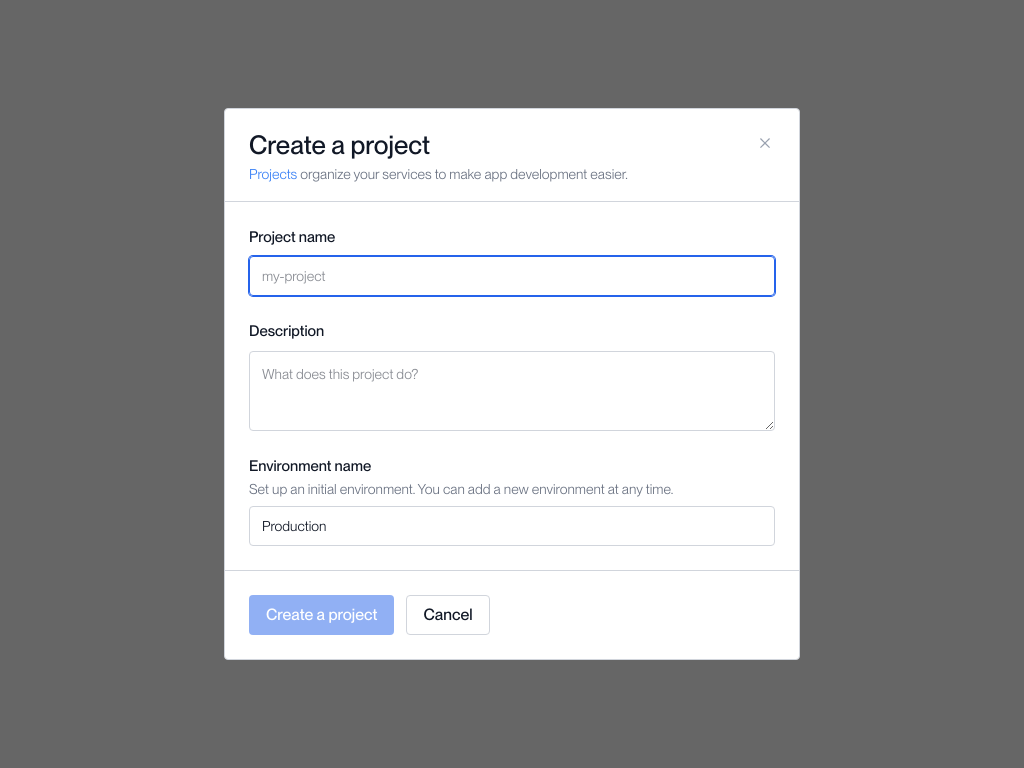
Test case: CreateProjectModal › displays error message if project creation fails
Type "Existing App" into the field with test id "new-project-name" at (512, 276), box [249,256,775,296]
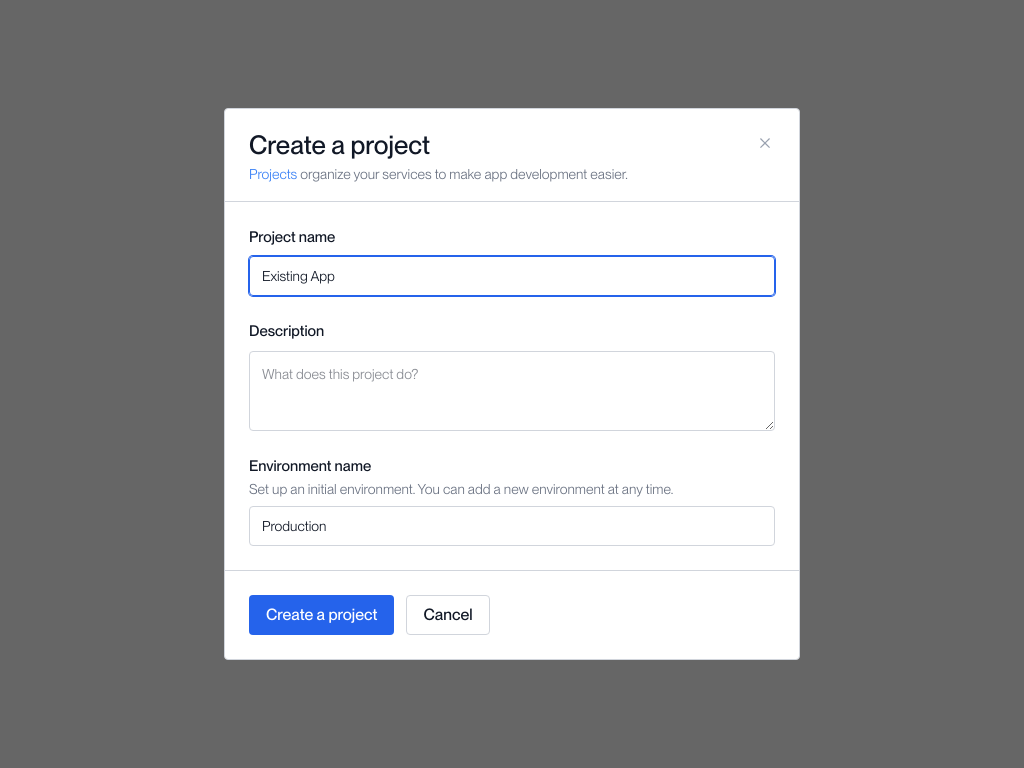
Click the button with test id "btn-submit-create-project" at (322, 615), box [249,595,394,635]
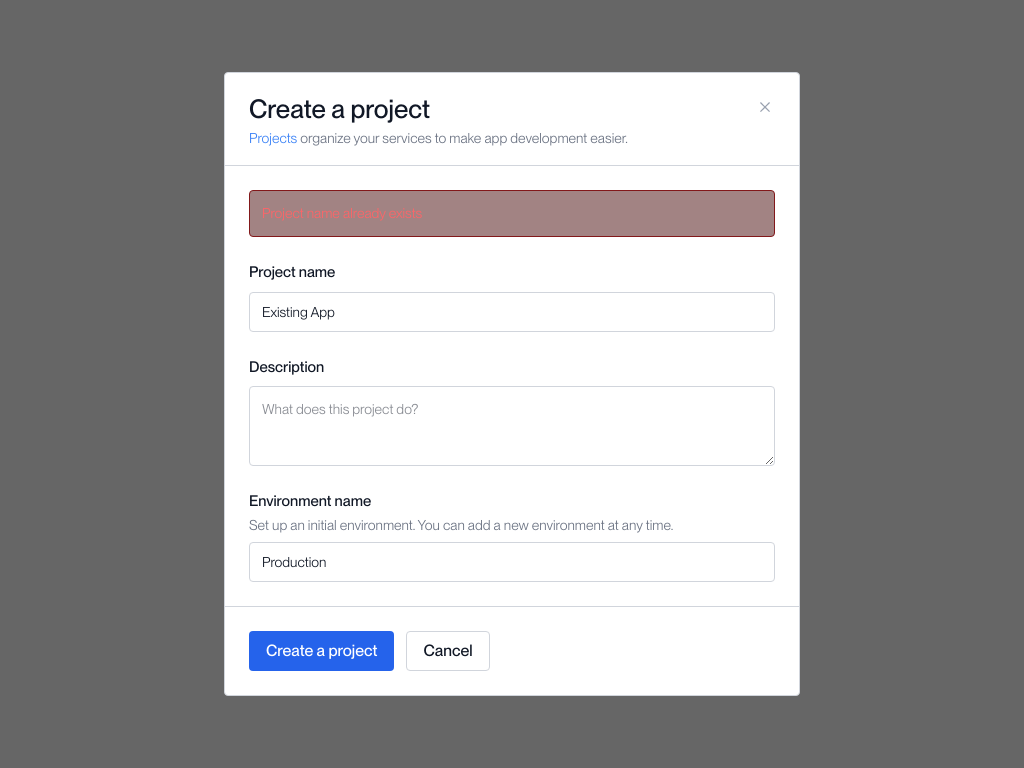
Expected: the text with test id "create-project-error" reads "Project name already exists", [262,205,422,221]
